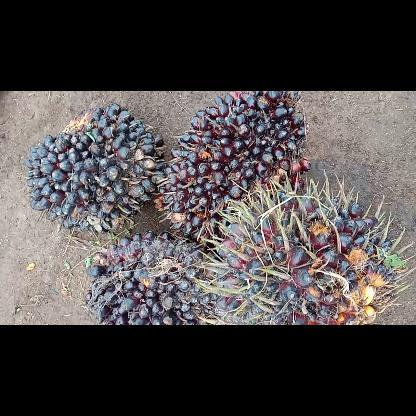TBS mentah: (210, 180, 398, 324), (156, 90, 314, 246), (21, 102, 167, 236), (82, 228, 219, 324)
